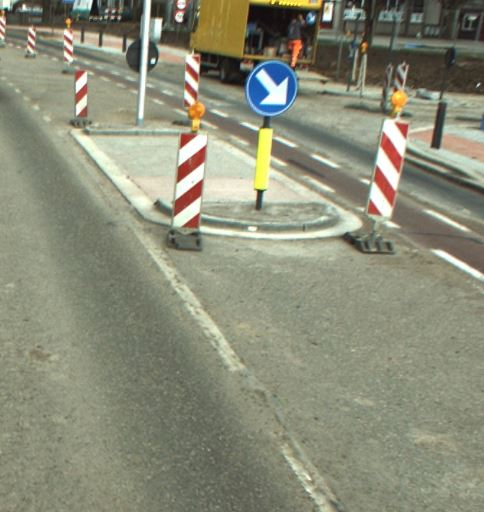Sagdan Git: (246, 59, 296, 115)
